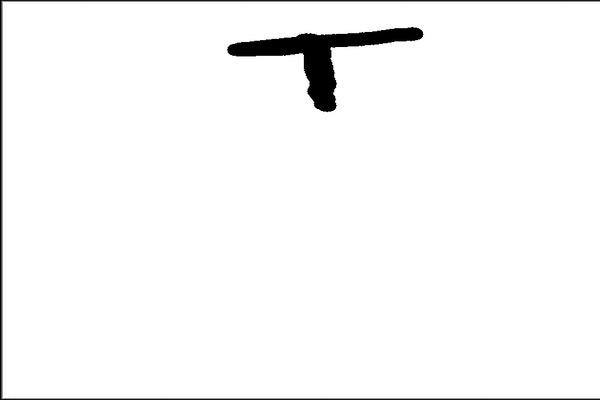T: (225, 24, 426, 113)
